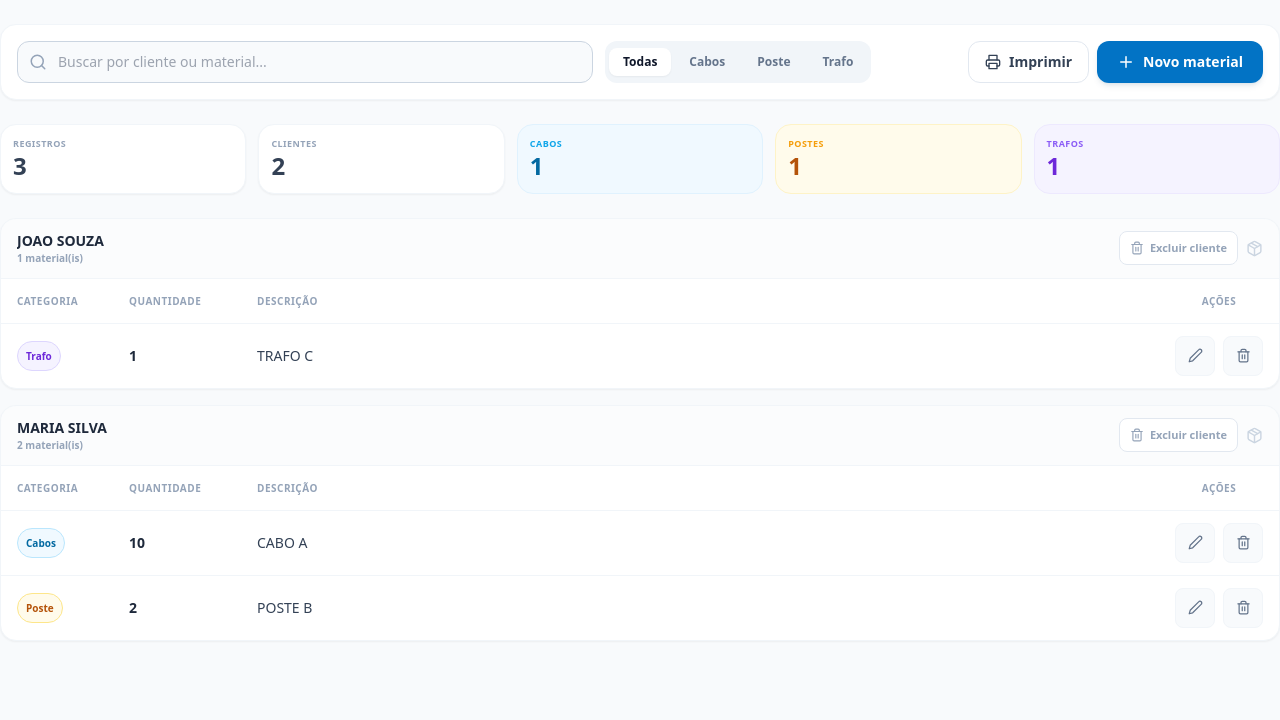
Test: MateriaisPorCliente › exclui o cliente e todos os materiais do grupo após confirmação
This screenshot has width=1280, height=720.
Click the button titled "Excluir o cliente MARIA SILVA e todos os materiais" in the row of "MARIA SILVA". click: (1178, 435)
box: [1119,418,1238,452]
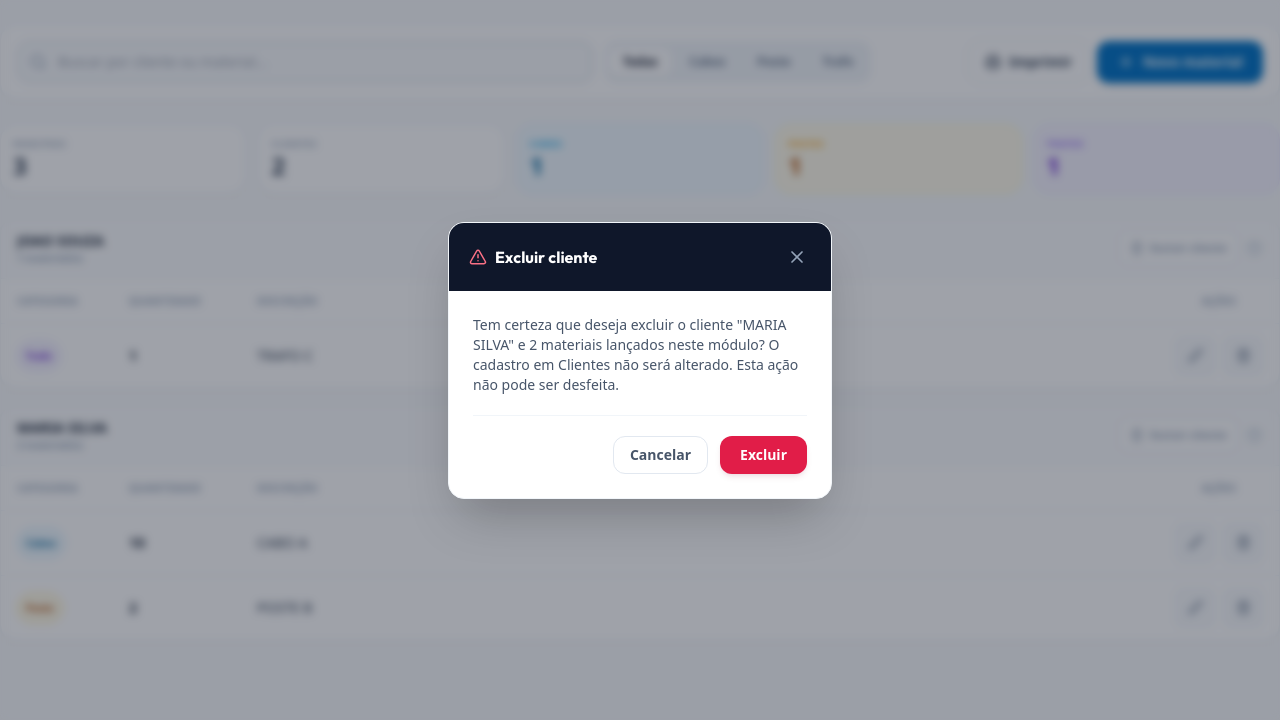
Check: the text "2 materiais lançados" is shown, box [473,314,798,394]
Check: the text "O cadastro em Clientes não será alterado." is shown, box [473,314,798,394]
Click the button "Excluir". click: (764, 454)
box: [720,436,807,474]
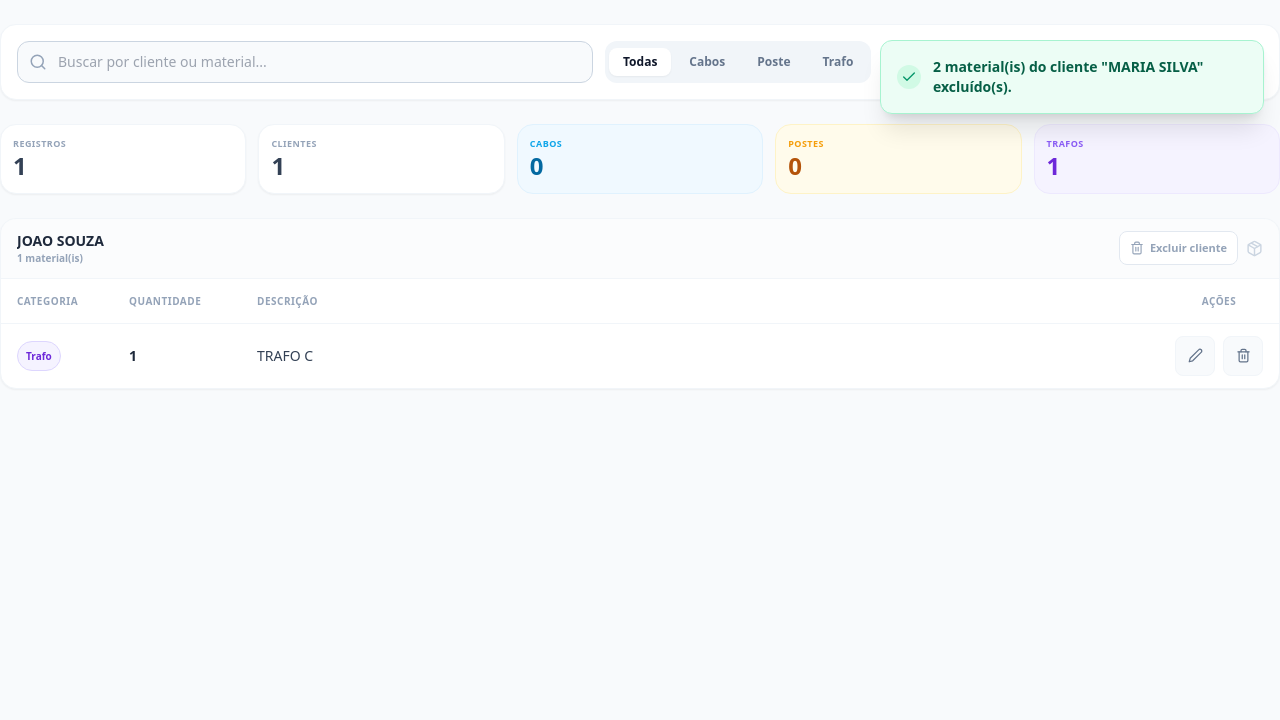
Check: the text "TRAFO C" is shown, box [241,323,1159,388]
Check: the text "CABO A" is gone
Check: the text "POSTE B" is gone
